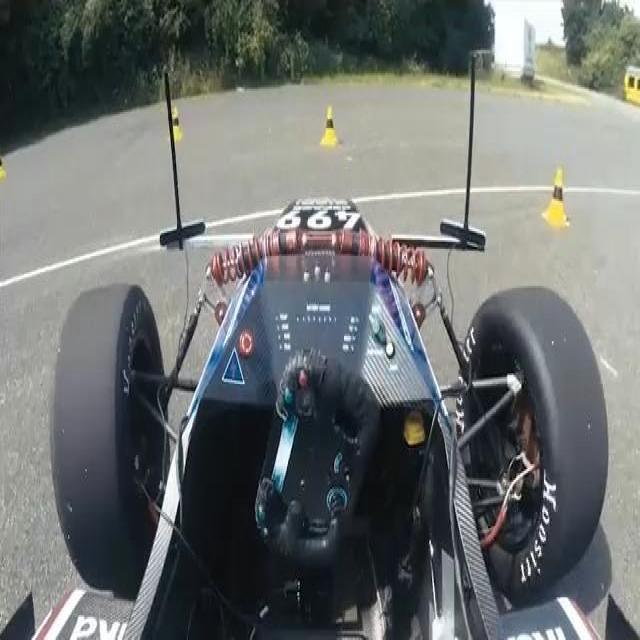yellow_cone: (542, 165, 570, 230), (319, 103, 339, 148), (167, 105, 183, 143), (0, 146, 7, 179)
